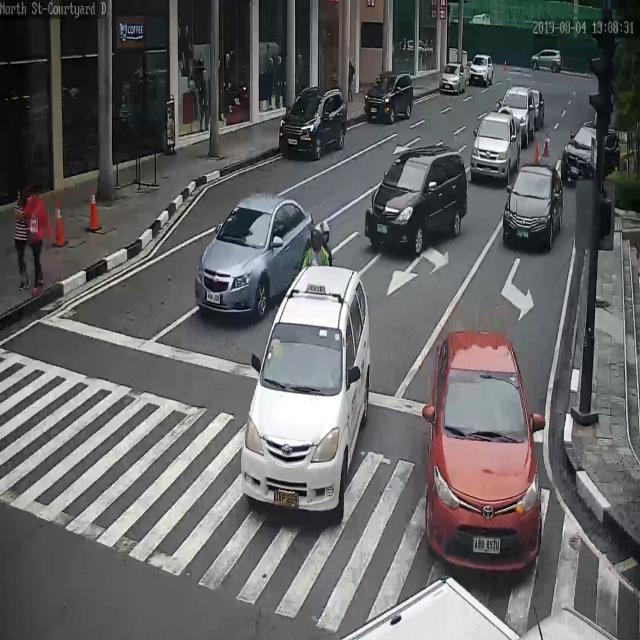car: (240, 264, 371, 515), (423, 328, 543, 582), (339, 573, 620, 640), (195, 191, 314, 318), (363, 148, 468, 254), (278, 86, 349, 161), (503, 164, 563, 247), (562, 120, 620, 183), (470, 112, 522, 182), (362, 72, 414, 125), (499, 86, 534, 146), (468, 54, 493, 89), (439, 62, 465, 94), (531, 50, 562, 71), (532, 86, 544, 132)
jeepney: (302, 220, 333, 270)
